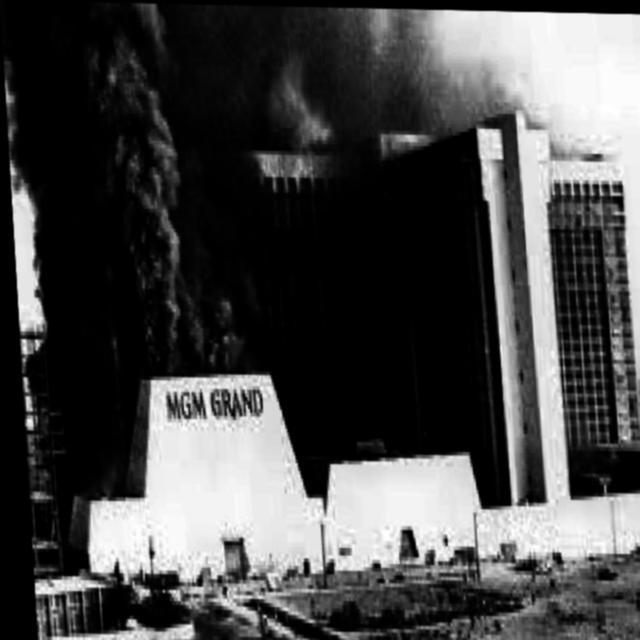Smoke: (0, 0, 607, 262), (0, 0, 281, 521)
